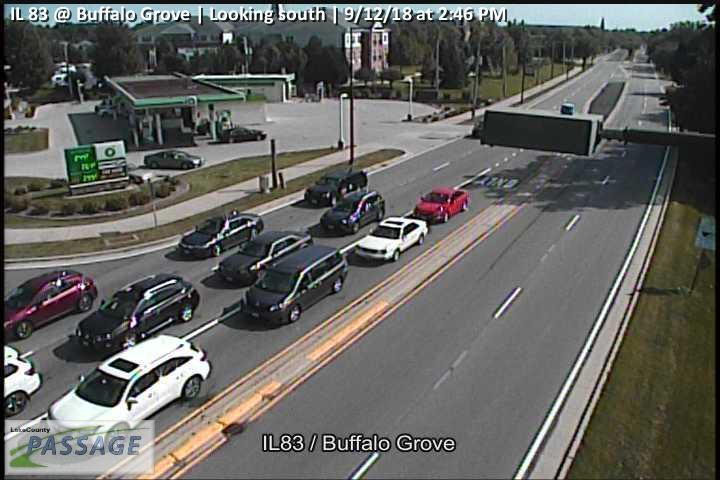SUV: (46, 333, 213, 449), (74, 274, 200, 356), (241, 245, 350, 328), (22, 269, 98, 340), (319, 190, 386, 236), (304, 168, 369, 208)
Sedan: (215, 230, 315, 288), (176, 213, 264, 260), (355, 216, 429, 264), (413, 184, 472, 224), (144, 150, 202, 169)
